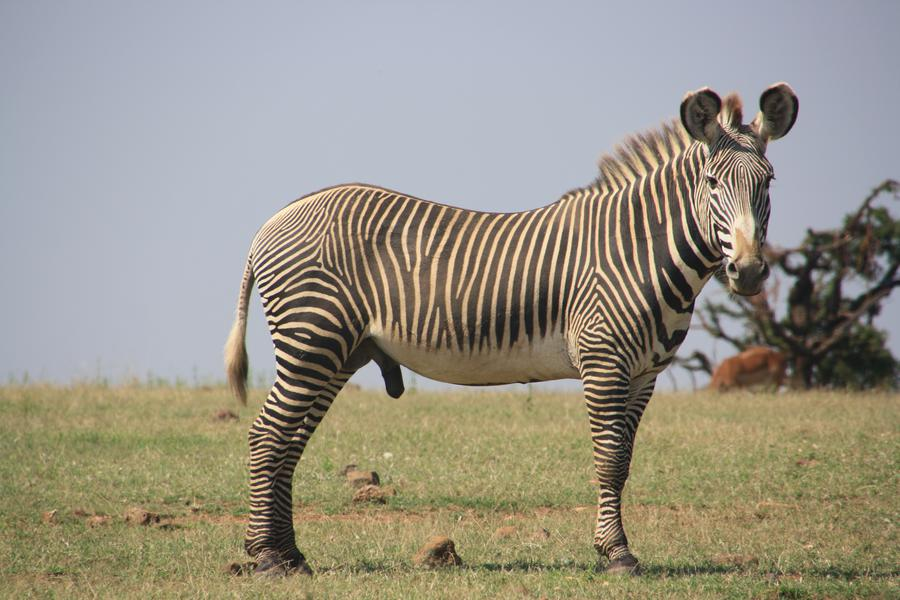zebra_grevys: (246, 160, 656, 364)
